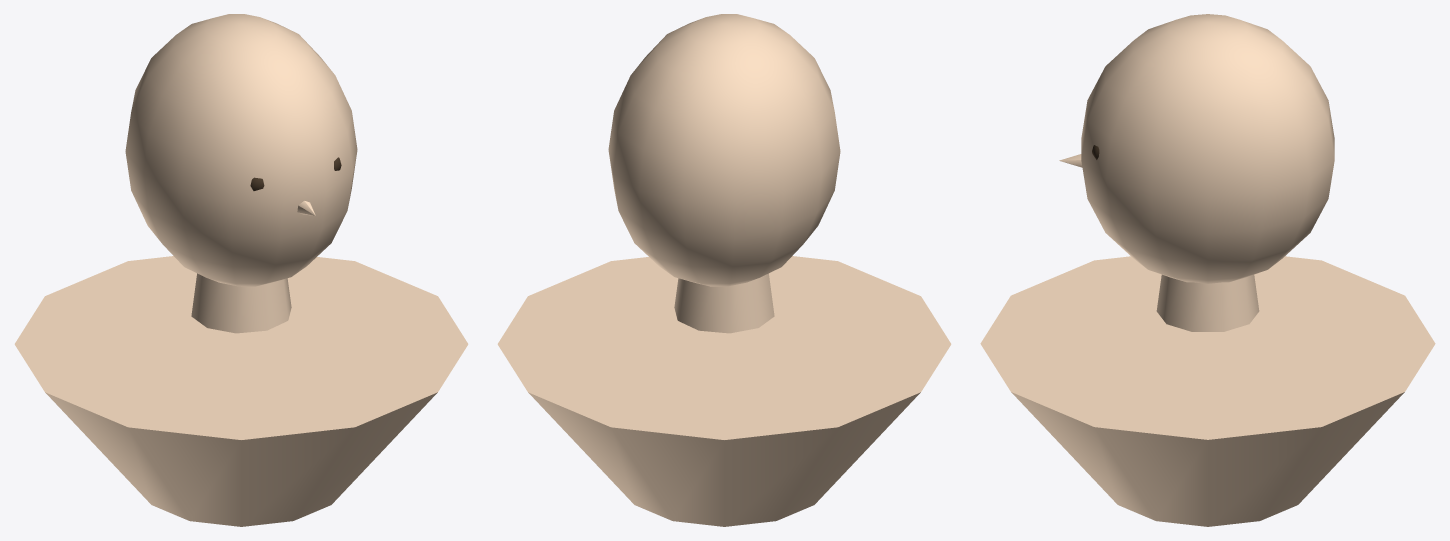
The model's file is raw_001.glb.
3 renders of one model, left to right at view 1: azimuth 30°, elevation 25°; view 2: azimuth 150°, elevation 25°; view 3: azimuth 270°, elevation 25°, orthographic.
Bounding box in the file's own units: 1.86 × 2.08 × 1.86.
